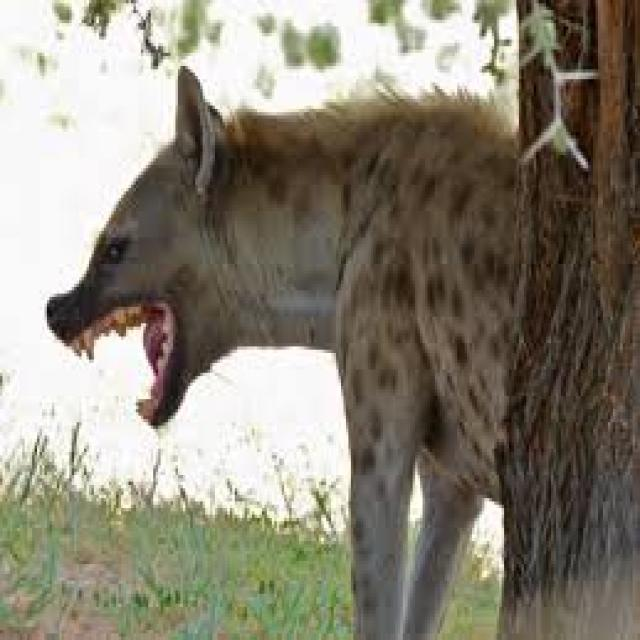Hyena: (50, 89, 513, 640)
